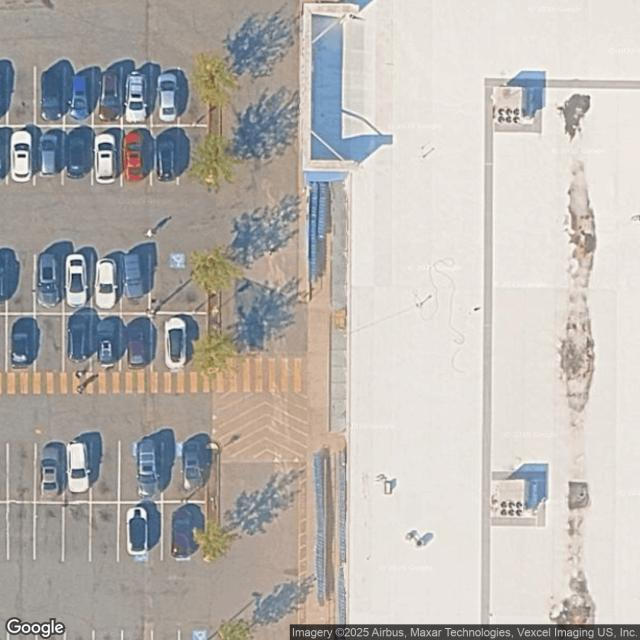car: (38, 250, 61, 309), (136, 442, 160, 495), (67, 254, 87, 308), (41, 446, 61, 499), (41, 71, 63, 119), (124, 257, 147, 302), (174, 509, 196, 556), (156, 136, 178, 183), (184, 442, 205, 490), (167, 316, 186, 369), (126, 73, 146, 123), (125, 132, 145, 182), (70, 74, 92, 119), (157, 75, 179, 119), (13, 320, 35, 364), (98, 73, 119, 119), (69, 315, 90, 360), (69, 444, 88, 493), (95, 136, 115, 182), (100, 321, 120, 365), (96, 262, 115, 308), (128, 326, 149, 367), (127, 509, 147, 552), (13, 131, 30, 181), (40, 134, 59, 177), (69, 134, 85, 177)
lot_boundary: (0, 0, 207, 639)
stall: (154, 249, 207, 313), (154, 311, 207, 374), (163, 442, 209, 504), (163, 505, 206, 561), (120, 312, 154, 370), (92, 125, 124, 185), (64, 252, 94, 314), (62, 313, 94, 371), (34, 314, 66, 372), (34, 253, 64, 314), (36, 67, 67, 126), (90, 500, 119, 562), (7, 252, 36, 314), (179, 122, 207, 186), (93, 251, 121, 315), (122, 251, 150, 314), (152, 64, 182, 122), (91, 314, 121, 372), (6, 443, 35, 502), (35, 444, 64, 503), (38, 126, 66, 187), (65, 65, 93, 126), (124, 64, 151, 127), (91, 443, 120, 501), (152, 125, 180, 185), (8, 65, 36, 125), (62, 502, 90, 561), (119, 502, 147, 561), (36, 502, 64, 560), (64, 128, 92, 185), (117, 443, 144, 502), (124, 128, 151, 186), (95, 67, 122, 125), (7, 316, 36, 369), (10, 126, 36, 185), (65, 443, 90, 503), (9, 502, 34, 561), (183, 63, 206, 124), (144, 445, 164, 501), (142, 504, 162, 560)
